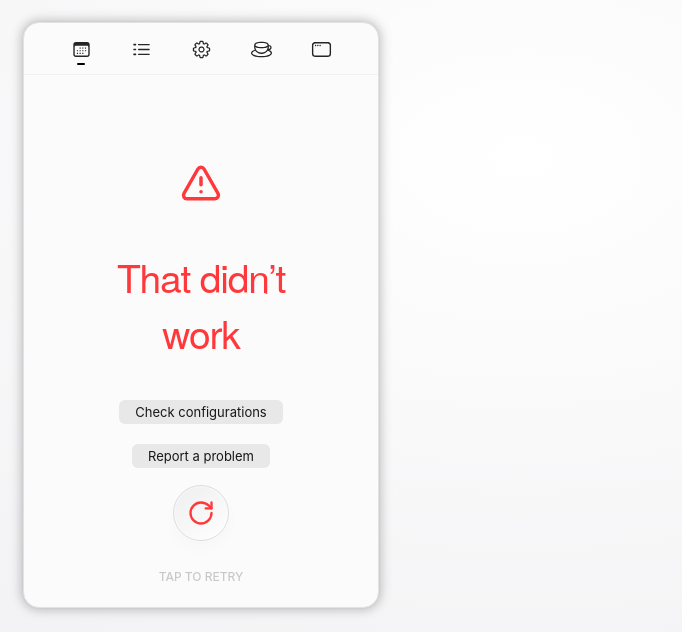
Test: persisted worker failure screens › renders "That didn’t work" with configure and retry affordances
Check: the heading "That didn’t work" is shown, box x1=117 y1=248 x2=285 y2=360
Check: the button named "Retry" is shown, box x1=173 y1=485 x2=229 y2=541
// Check configurations opens Settings without starting work.
Click the button "Check configurations".
click(201, 412)  # box x1=119 y1=400 x2=283 y2=424
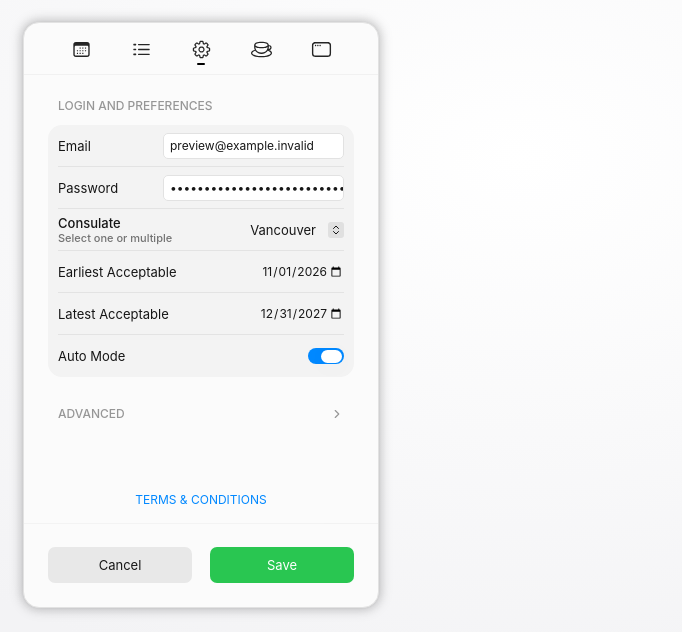
Check: the field labelled "Email" is shown, box x1=163 y1=132 x2=344 y2=158
